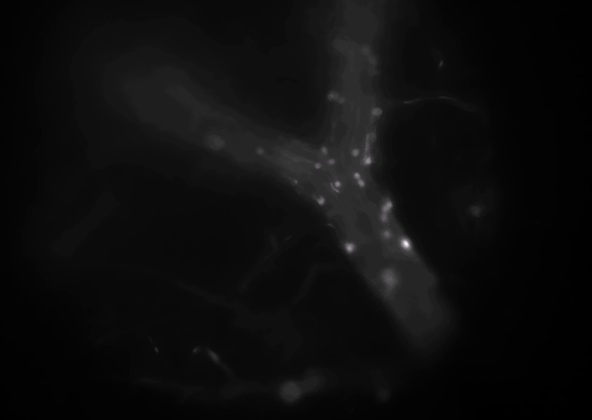cell: (399, 236, 413, 250), (369, 104, 383, 118), (347, 145, 361, 159), (362, 154, 376, 168), (317, 142, 331, 156), (310, 158, 324, 172), (325, 154, 339, 168), (323, 90, 337, 104), (350, 169, 364, 183), (330, 92, 344, 106), (354, 177, 368, 191), (341, 241, 355, 255), (382, 271, 396, 285), (380, 225, 394, 239), (381, 198, 395, 212), (378, 210, 392, 224), (379, 201, 393, 215), (313, 195, 327, 209), (288, 175, 302, 189), (253, 144, 267, 158), (208, 136, 222, 150), (358, 43, 372, 57), (366, 53, 380, 67), (332, 39, 346, 53), (330, 177, 344, 191), (367, 131, 381, 145)
